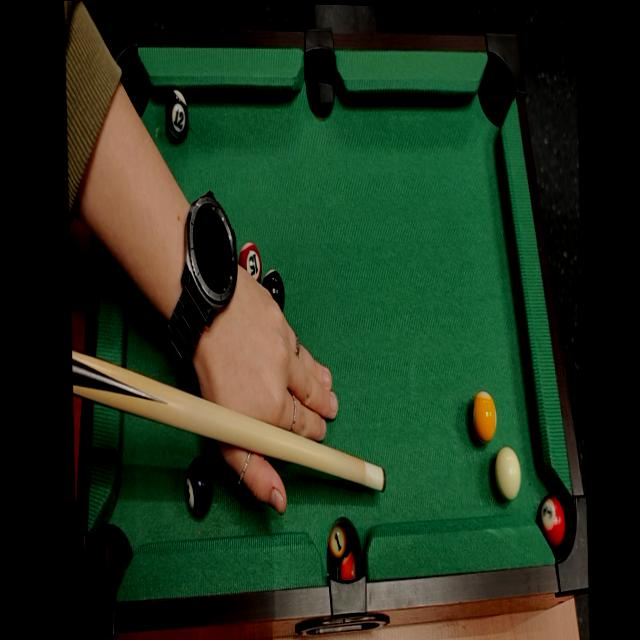cue ball: (493, 446, 522, 506)
other: (181, 453, 216, 520), (535, 492, 566, 556), (471, 391, 499, 450), (163, 84, 191, 141), (258, 268, 287, 313), (237, 239, 261, 285)
